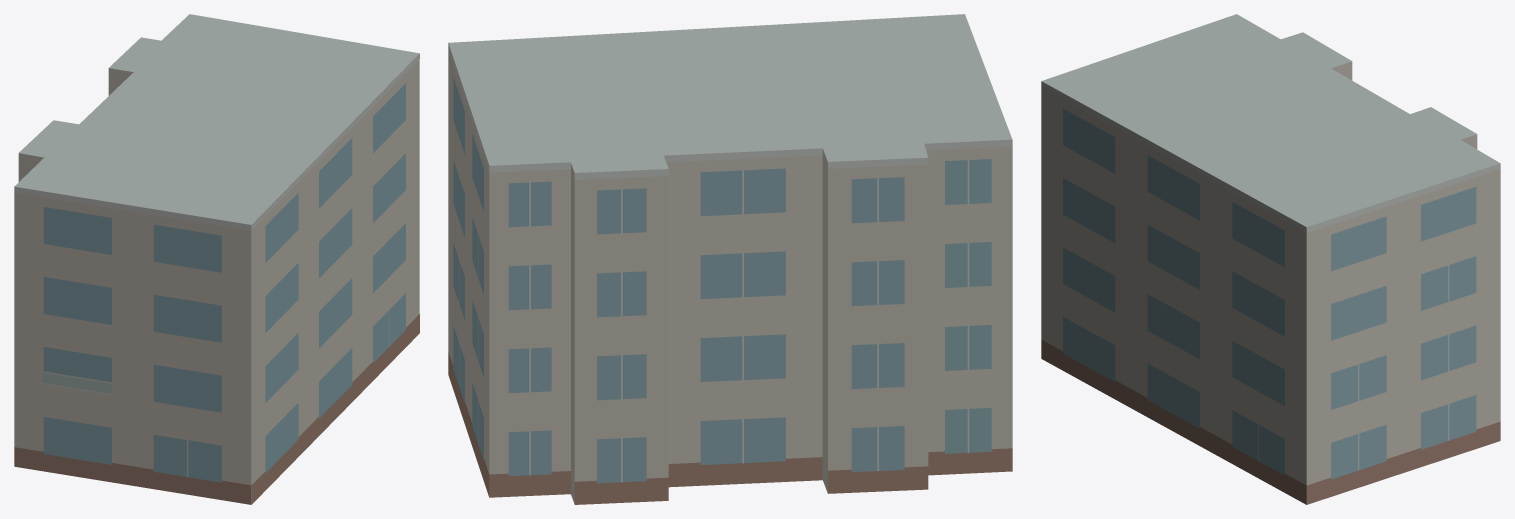
Rendered from survey-upis-32777091.glb.
The picture shows the model from 3 angles, left to right: view 1: azimuth 30°, elevation 25°; view 2: azimuth 150°, elevation 25°; view 3: azimuth 270°, elevation 25°; orthographic projection. The views are drawn at different scales.
Visible parts, largest first — view 1: survey-upis-32777091.tmp; view 2: survey-upis-32777091.tmp; view 3: survey-upis-32777091.tmp.
Part boxes in pixels (x1,y1,x2,y2): survey-upis-32777091.tmp: (14,14,419,504); survey-upis-32777091.tmp: (448,14,1012,504); survey-upis-32777091.tmp: (1041,14,1500,504).
Bounding box in the file's own units: 19.36 × 11.75 × 17.62.
